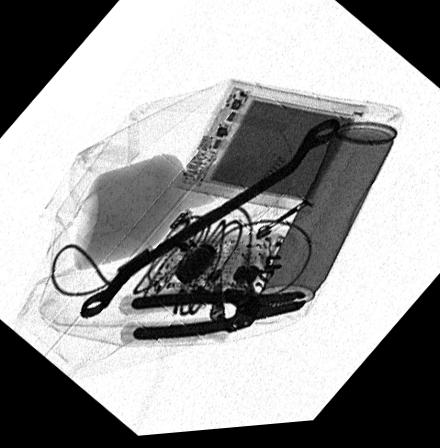Pliers: (129, 293, 304, 344)
Powerbank: (171, 81, 366, 220)
Wrench: (78, 121, 339, 320)
